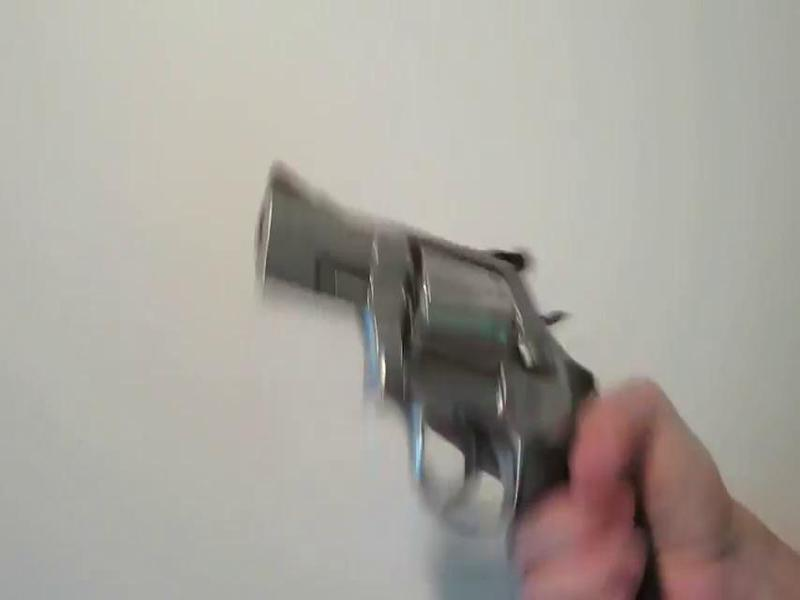Revolver: (225, 164, 688, 578)
